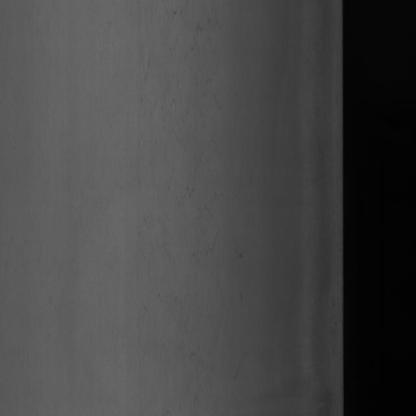silk_spot: (126, 49, 240, 271)
